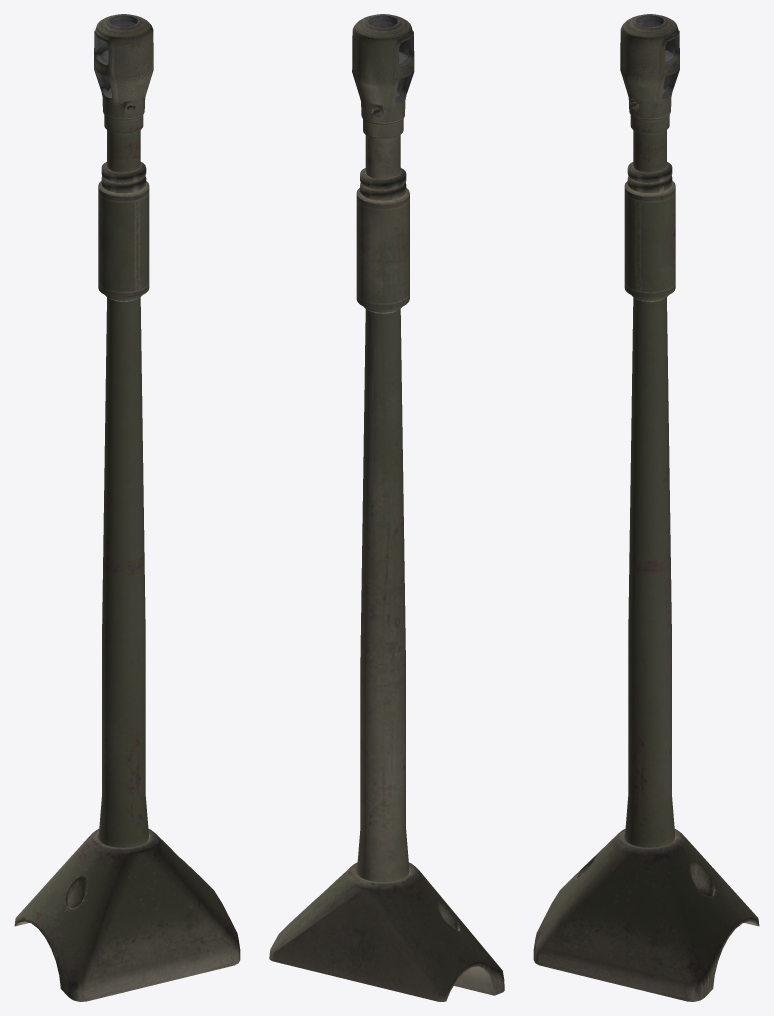
The model's file is Gun_01.glb.
The picture shows the model from 3 angles, left to right: view 1: azimuth 30°, elevation 25°; view 2: azimuth 150°, elevation 25°; view 3: azimuth 330°, elevation 25°; orthographic projection. The views are drawn at different scales.
Parts seen in each view (by area): view 1: set_0_group_0; view 2: set_0_group_0; view 3: set_0_group_0.
Part boxes in pixels (x1,y1,x2,y2): set_0_group_0: [14, 14, 240, 1001]; set_0_group_0: [269, 14, 504, 1001]; set_0_group_0: [533, 14, 759, 1001].
Size of the model in its own units: 0.8771 by 4.61 by 0.5655.
1 material, 1 textured.
